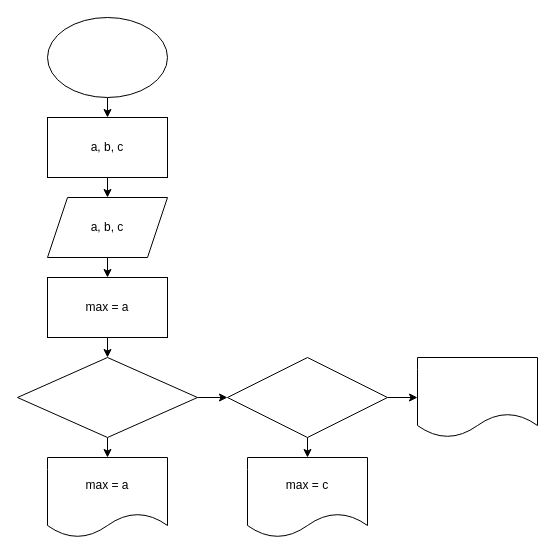
The diagram is 555 pixels wide and 555 high, and some of its shapes have lost their labels. The shapes that lost their labels are listed below. From the top down, each one's centre as x and y in pixels, then its label:
At point (107, 57): "Start".
At point (107, 397): "a > b".
At point (307, 397): "b < c".
